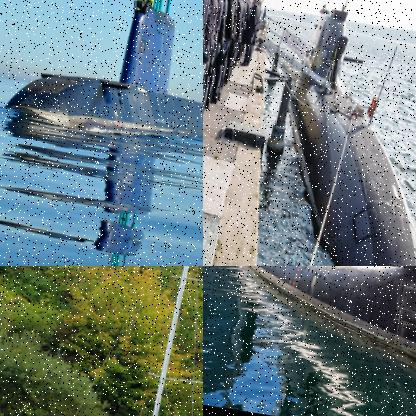Sails Boat: (35, 266, 202, 415)
Submarine: (244, 0, 415, 265), (2, 0, 202, 164), (203, 266, 415, 391)
